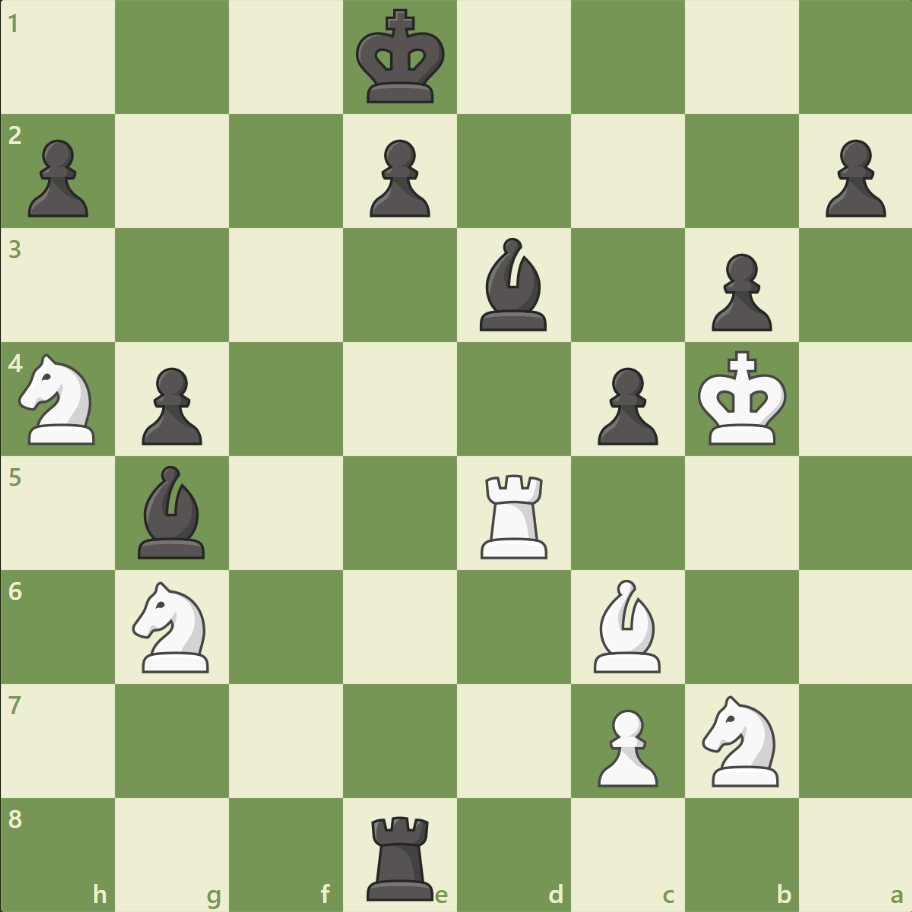B: (585, 574, 669, 676)
K: (692, 344, 792, 452)
N: (124, 575, 222, 677), (692, 688, 789, 791), (11, 348, 108, 450)
P: (588, 700, 662, 791)
R: (473, 466, 556, 563)
b: (131, 460, 215, 563), (471, 233, 555, 336)
k: (351, 4, 451, 112)
p: (133, 359, 208, 450), (701, 246, 776, 337), (20, 132, 95, 223), (588, 359, 662, 450), (815, 132, 889, 223), (361, 132, 435, 223)
r: (360, 806, 442, 904)
